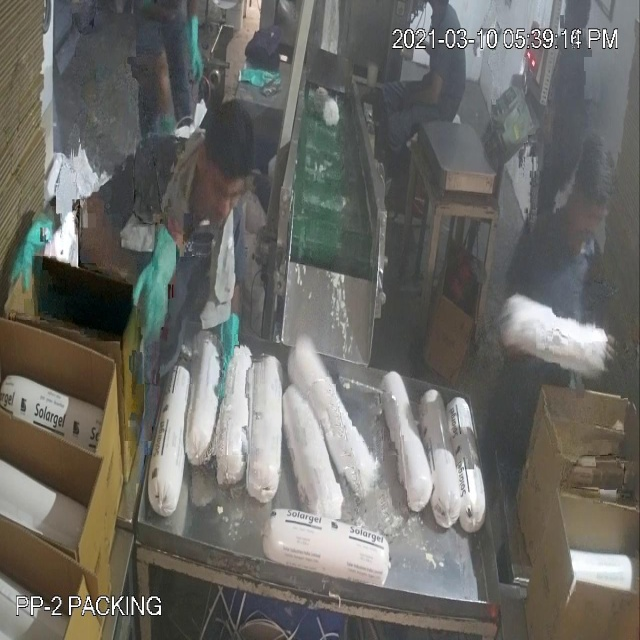Guantes: (130, 214, 184, 359)
